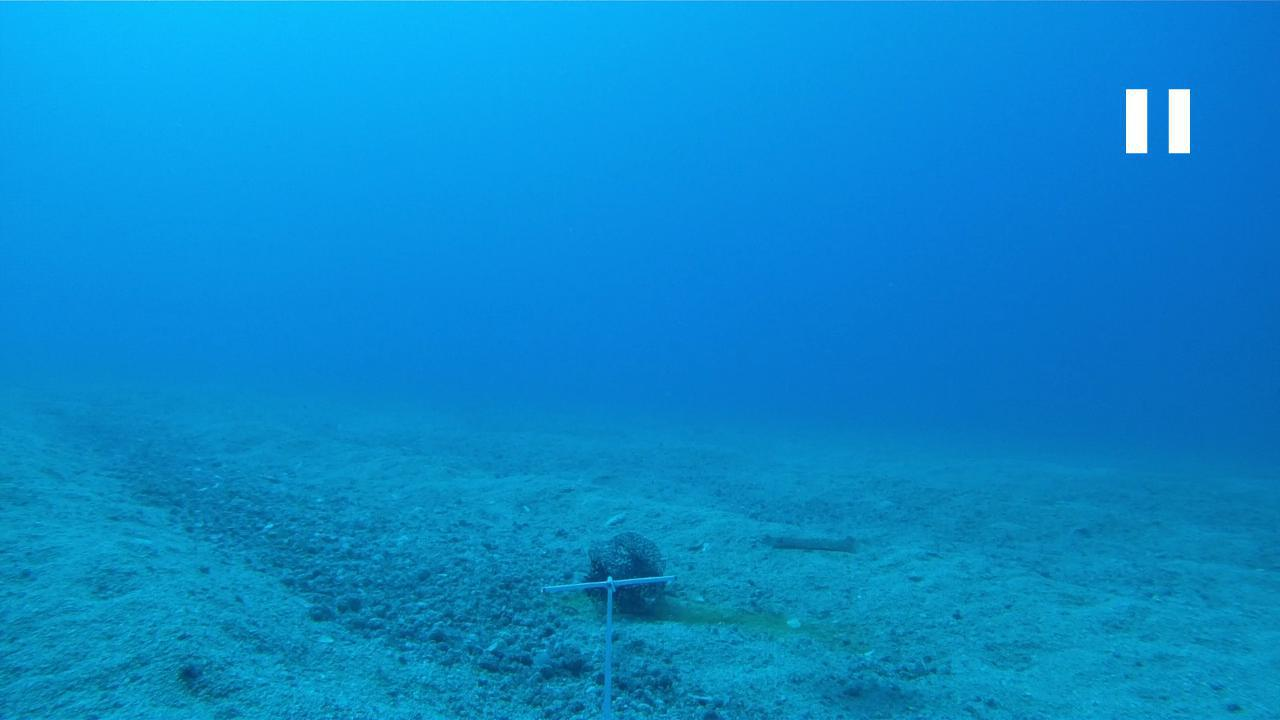bothus: (757, 527, 862, 556)
